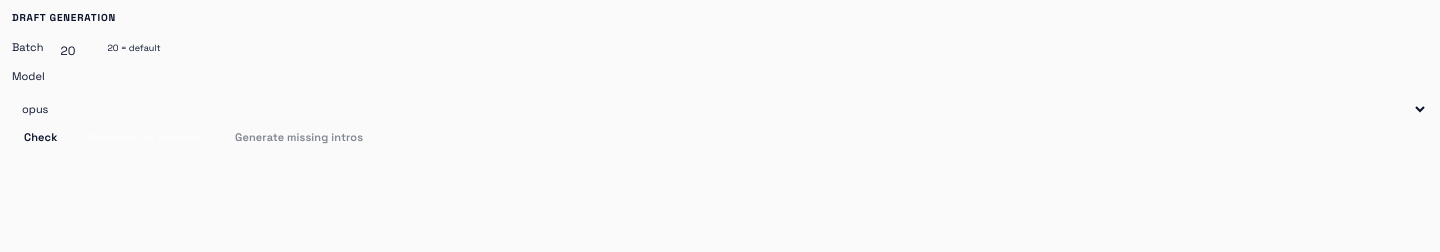
Scenario: CampaignDraftGenerateCard › shows running job progress and current progress event
Step 1. Click the button "Check" → (41, 137), box [12, 126, 69, 148]
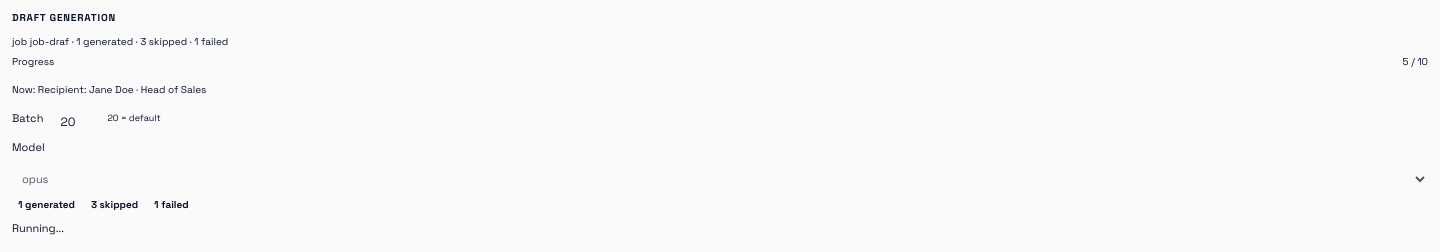
Expected: the text "5 / 10" is shown, [1403, 54, 1428, 70]
Expected: the text "Now: Recipient: Jane Doe · Head of Sales" is shown, [12, 83, 206, 96]
